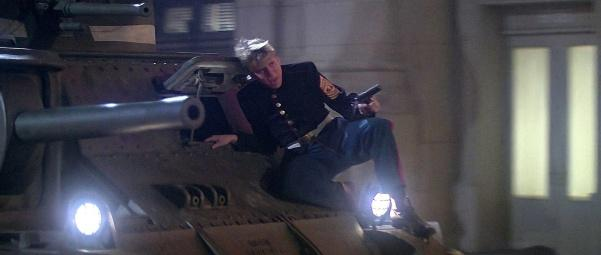Gun: (357, 83, 382, 106)
